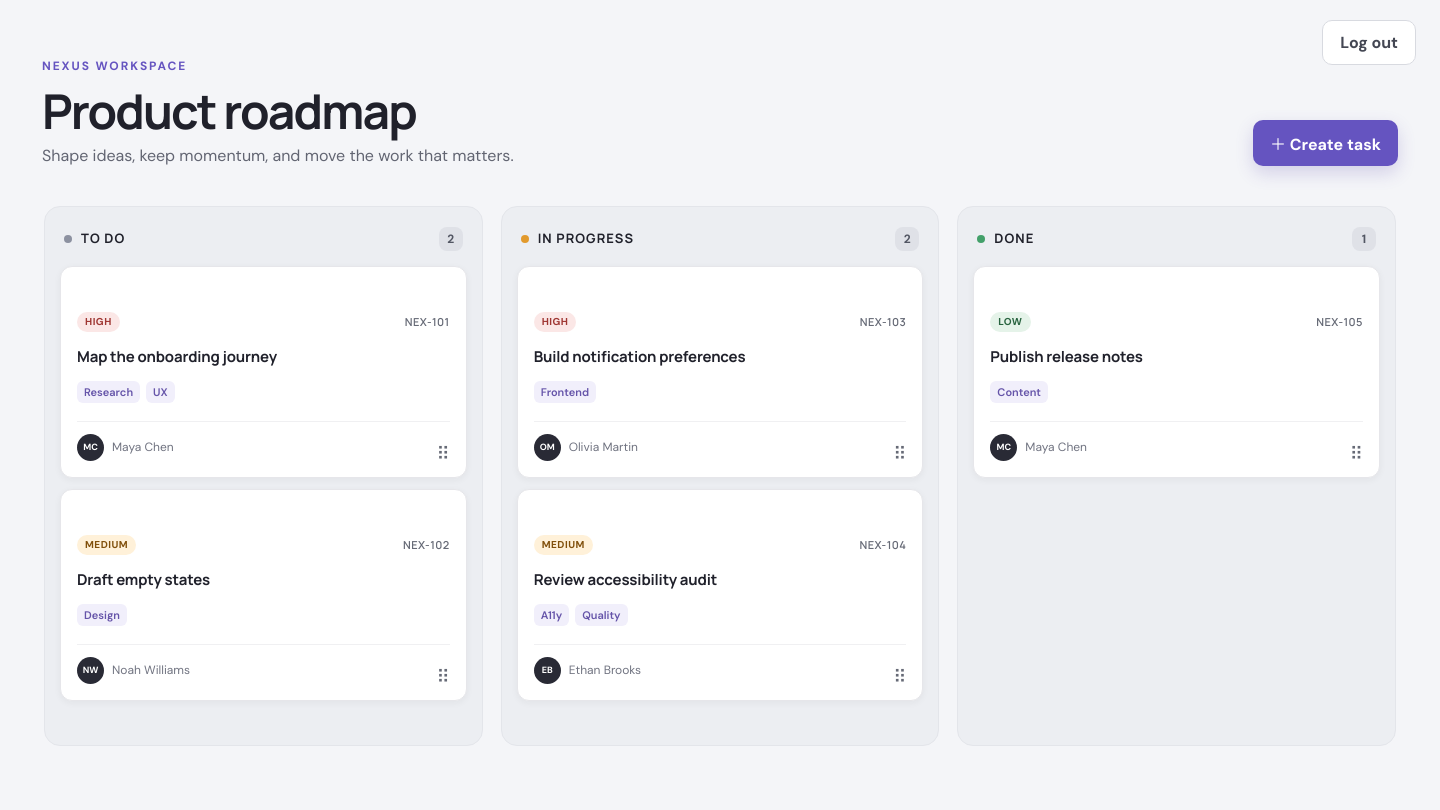
Test: create action navigates to the static new-task route
Step 1. Click the button "＋ Create task" → (1325, 143), box [1253,120,1398,166]
(page scrolled)
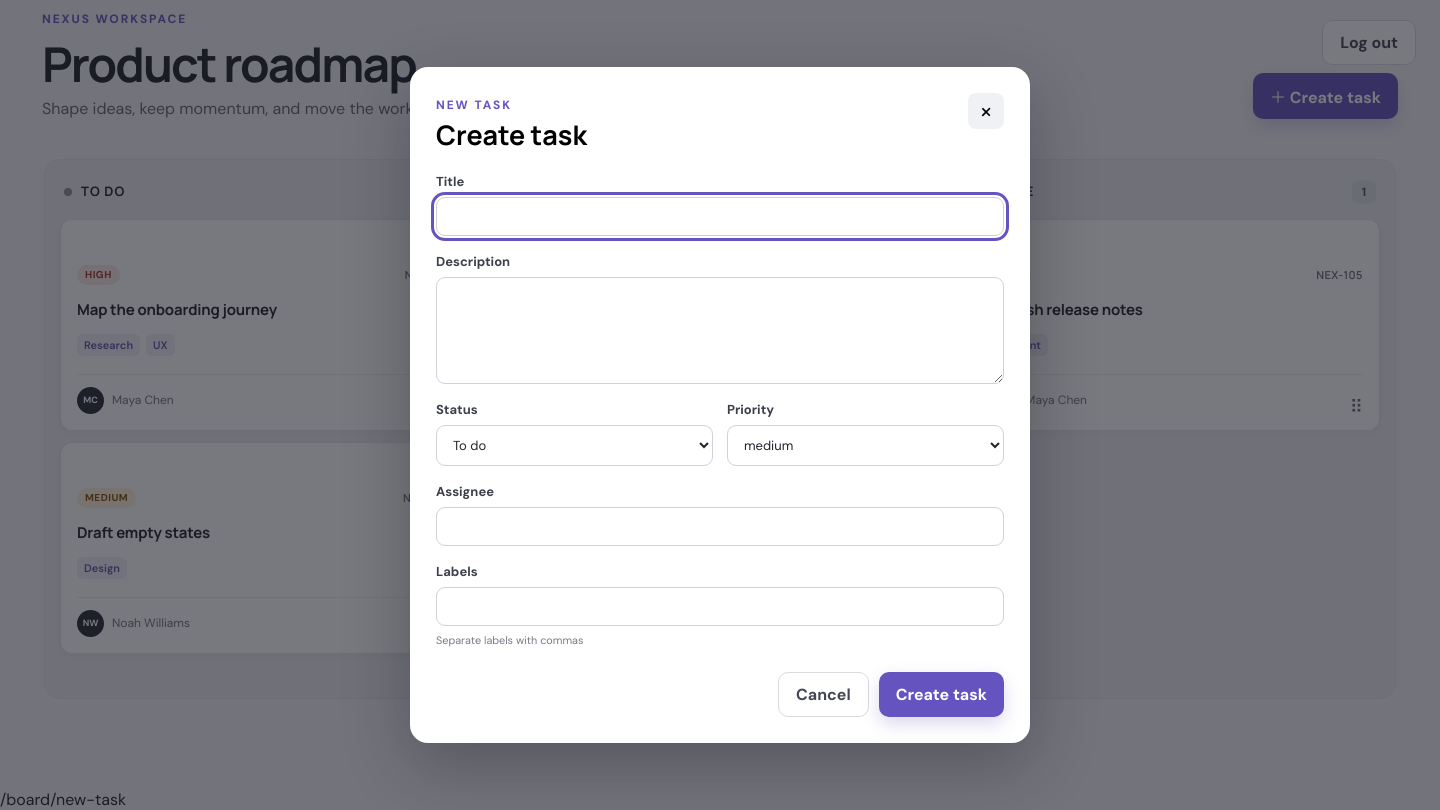
Check: the dialog "Create task" is shown, box [410,67,1030,743]
Check: the text with test id "current-path" reads "/board/new-task", box [0,789,126,809]
